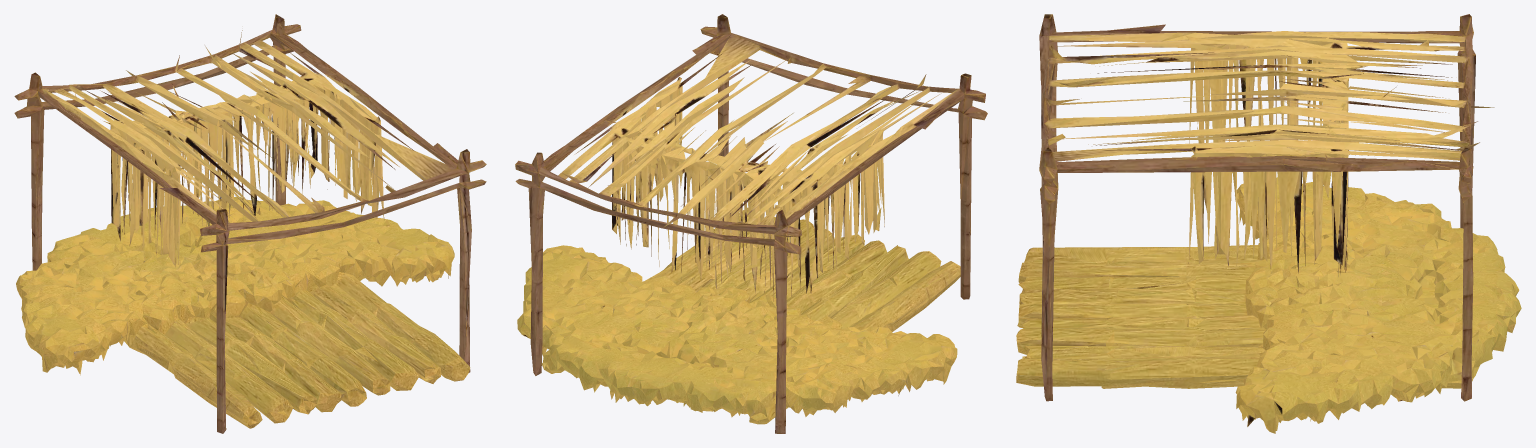
Rendered from hasa.glb.
3 renders of one model, left to right at view 1: azimuth 30°, elevation 25°; view 2: azimuth 150°, elevation 25°; view 3: azimuth 270°, elevation 25°, orthographic. The views are drawn at different scales.
Parts seen in each view (by area): view 1: Mesh_0; view 2: Mesh_0; view 3: Mesh_0.
Part boxes in pixels (x1=…): Mesh_0: x1=14, y1=14, x2=486, y2=433; Mesh_0: x1=515, y1=14, x2=987, y2=433; Mesh_0: x1=1016, y1=14, x2=1521, y2=433.
Bounding box in the file's own units: 1.81 × 0.9349 × 1.72.
1 material, 1 textured.
